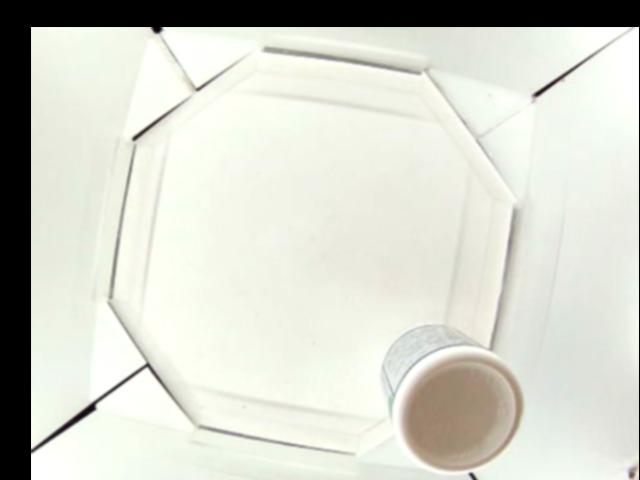Bottle: (379, 320, 522, 473)
